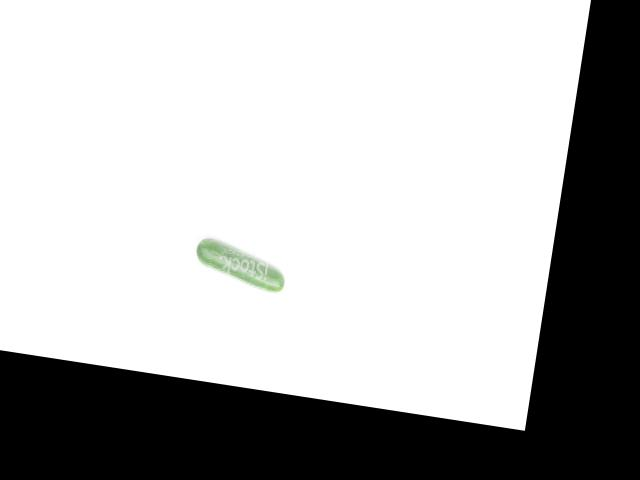cucumber: (191, 236, 289, 293)
